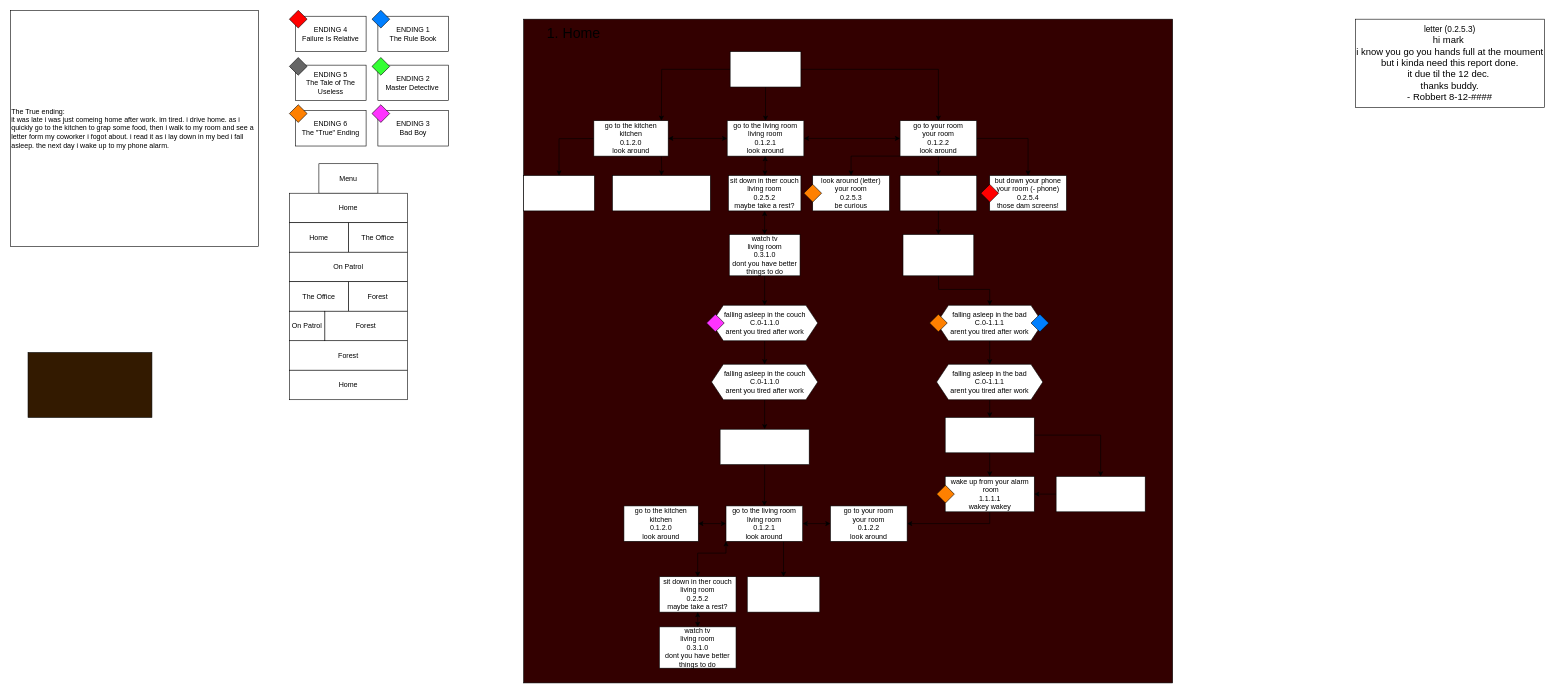
Some shapes in this 1555 by 693 pixel diagram are drawn without their labels. The centre of each missing label's shape, as x and y in pixels:
"1. The Office" goes at point 89,384.
"continue Home 0.0.0.0 try starting the game!" goes at point 765,69.
"do to sleep living room 0.3.1.1 arent you tired" goes at point 938,255.
"dont wake up room 1.1.1.2 but i dont wanna wake up" goes at point 1100,494.
"get up of the couch living room 1.0.1.0 try finding a diffrent to sleep" goes at point 764,447.
"in bed room 1.0.1.1 arent you tired" goes at point 989,435.
"lay down in your bed your room 0.2.5.5 take a rest dude" goes at point 938,193.
"leave for work living room ---- maybe go to work" goes at point 783,594.
"look for food (bun) kitchen 0.2.5.0 are you hungry?" goes at point 558,193.
"search your kitchen (knife) kitchen 0.2.5.1 looking for something?" goes at point 661,193.
